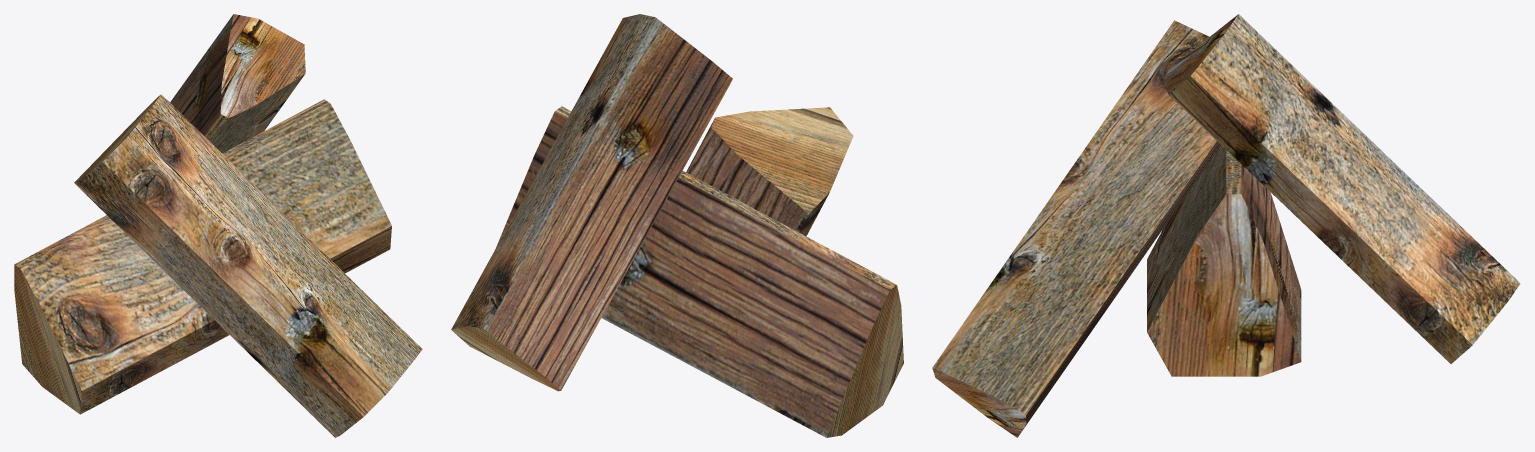
File: HalkoPuut.fbx
The picture shows the model from 3 angles, left to right: view 1: azimuth 30°, elevation 25°; view 2: azimuth 150°, elevation 25°; view 3: azimuth 270°, elevation 25°; orthographic projection. The views are drawn at different scales.
Parts seen in each view (by area): view 1: Halko; view 2: Halko; view 3: Halko.
Part boxes in pixels (bbox=[...]): Halko: bbox=[14, 14, 422, 437]; Halko: bbox=[451, 14, 903, 437]; Halko: bbox=[932, 14, 1520, 437].
Size of the model in its own units: 2.04 by 2.01 by 2.55.
